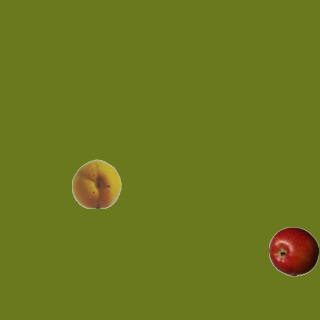Apple Braeburn: (268, 226, 318, 276)
Peach 2: (71, 158, 121, 208)
